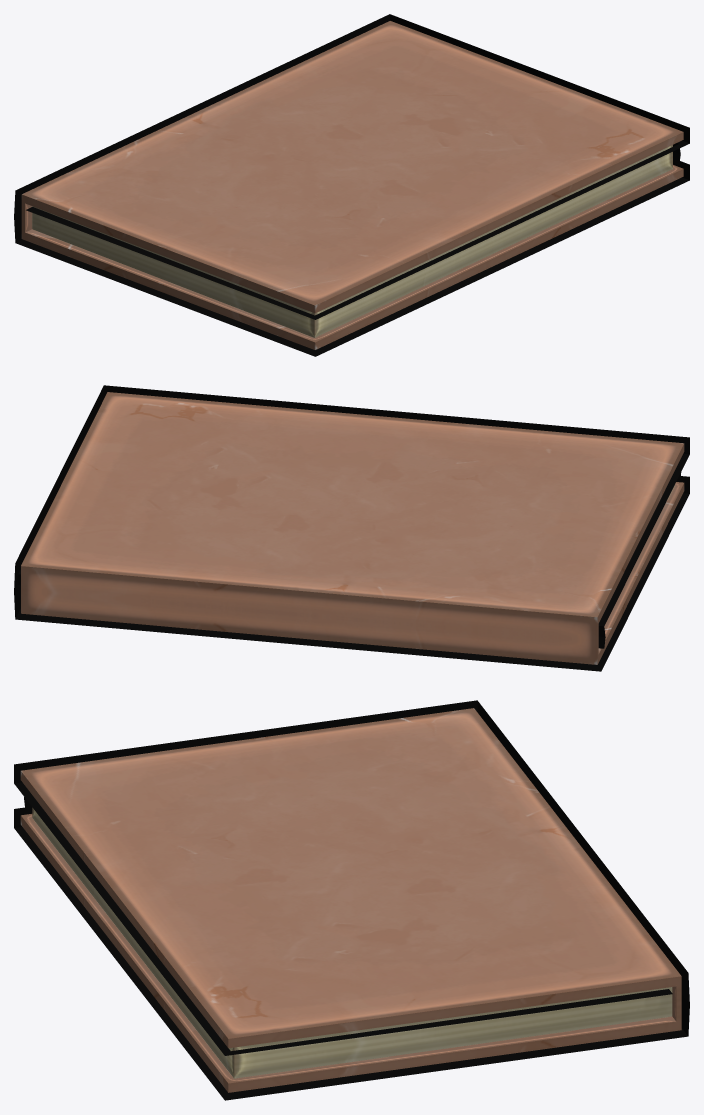
Rendered from Book Closed.fbx.
The picture shows the model from 3 angles, top to bottom: view 1: azimuth 30°, elevation 25°; view 2: azimuth 150°, elevation 25°; view 3: azimuth 270°, elevation 25°; orthographic projection. The views are drawn at different scales.
Visible parts, largest first — view 1: Books.001; view 2: Books.001; view 3: Books.001.
Part boxes in pixels (x1,y1,x2,y2): Books.001: (14,14,689,356); Books.001: (14,385,689,671); Books.001: (14,700,689,1100).
Size of the model in its own units: 42.95 by 36.38 by 3.78.
